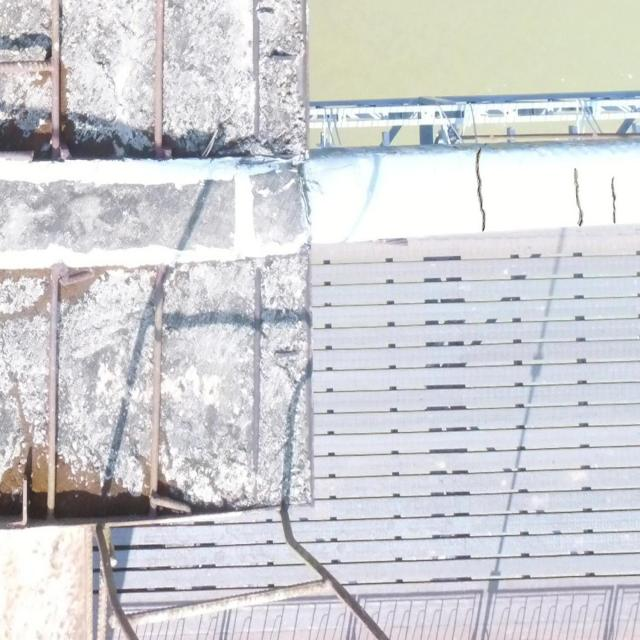crack: (472, 149, 488, 231), (572, 167, 585, 227), (608, 176, 619, 224)
